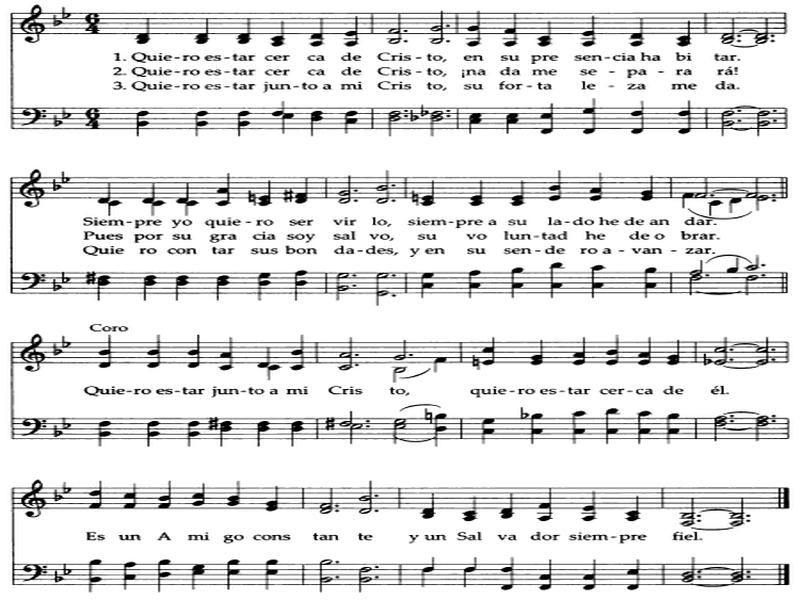B: (333, 328, 355, 371), (310, 550, 332, 593), (712, 104, 737, 138), (355, 549, 372, 598), (728, 484, 746, 530), (368, 267, 389, 306), (357, 474, 375, 519), (319, 471, 335, 519), (374, 165, 390, 209), (717, 13, 737, 48), (680, 486, 697, 527), (387, 7, 404, 45), (711, 334, 727, 374), (331, 267, 348, 303), (430, 9, 446, 46), (679, 554, 697, 585), (728, 554, 746, 582), (427, 108, 442, 139), (337, 173, 352, 204), (386, 106, 402, 135), (696, 167, 710, 200), (753, 15, 769, 43), (757, 106, 769, 137), (685, 274, 703, 294), (713, 414, 725, 443), (757, 336, 767, 370), (746, 275, 758, 301), (757, 412, 766, 443), (397, 334, 406, 364), (395, 419, 405, 446), (748, 172, 757, 199), (748, 249, 759, 271), (339, 411, 353, 428), (393, 364, 406, 382), (757, 190, 767, 213), (349, 424, 360, 443), (691, 258, 703, 275)
Bem: (51, 569, 64, 587), (61, 477, 74, 494), (59, 334, 70, 352), (57, 105, 70, 120), (51, 278, 63, 294), (50, 13, 61, 30), (51, 425, 62, 441), (61, 171, 73, 185), (63, 560, 71, 580), (50, 344, 62, 357), (701, 353, 713, 365), (59, 270, 69, 284), (60, 413, 67, 433), (51, 182, 62, 194), (419, 104, 429, 117), (52, 114, 62, 126), (60, 4, 67, 21), (52, 489, 60, 502), (411, 109, 418, 123)
CF: (17, 409, 47, 443), (17, 264, 46, 297), (18, 100, 47, 132), (20, 554, 47, 586)
CS: (21, 161, 46, 220), (20, 325, 47, 375), (20, 1, 47, 50), (22, 476, 47, 524)
N: (125, 106, 156, 145), (146, 481, 180, 514), (598, 332, 624, 374), (578, 487, 607, 524), (282, 332, 307, 374), (496, 6, 522, 46), (548, 158, 568, 210), (412, 492, 446, 522), (464, 7, 487, 50), (456, 488, 484, 523), (183, 328, 206, 370), (116, 477, 142, 514), (619, 104, 652, 133), (232, 12, 260, 46), (141, 414, 168, 449), (186, 564, 214, 597), (578, 1, 597, 49), (142, 332, 164, 371), (525, 413, 549, 448), (302, 14, 328, 46), (282, 418, 308, 450), (624, 13, 649, 46), (215, 335, 236, 374), (625, 560, 649, 594), (578, 98, 600, 135), (504, 264, 526, 301), (672, 98, 694, 134), (542, 484, 559, 530), (155, 556, 175, 595), (569, 407, 590, 444), (632, 333, 657, 364), (673, 16, 697, 48), (571, 330, 591, 368), (591, 260, 609, 302), (221, 478, 246, 508), (509, 176, 533, 207), (547, 261, 565, 302), (94, 415, 117, 447), (187, 108, 213, 136), (536, 557, 555, 595), (339, 16, 362, 47), (576, 561, 598, 593), (501, 551, 517, 594), (537, 103, 558, 135), (134, 16, 157, 45), (461, 267, 480, 302), (191, 15, 213, 45), (586, 171, 606, 204), (212, 269, 234, 299), (527, 337, 547, 370), (216, 421, 236, 454), (497, 491, 518, 522), (669, 409, 686, 447), (467, 178, 490, 206), (187, 481, 210, 509), (601, 406, 617, 446), (638, 176, 660, 205), (172, 274, 191, 307), (98, 334, 117, 367), (295, 176, 315, 206), (293, 270, 313, 300), (479, 414, 499, 444), (223, 558, 241, 591), (483, 333, 499, 369), (84, 484, 102, 516), (263, 486, 285, 512), (181, 420, 202, 447), (433, 411, 450, 444), (627, 494, 645, 525), (271, 18, 288, 50), (170, 174, 188, 204), (254, 274, 272, 304), (667, 336, 685, 366), (641, 266, 656, 301), (339, 110, 357, 139), (121, 564, 141, 590), (253, 416, 270, 446), (465, 112, 486, 136), (535, 23, 552, 52), (138, 176, 155, 204), (637, 406, 651, 440), (426, 177, 441, 207), (419, 269, 434, 299), (309, 109, 323, 141), (264, 555, 278, 587), (95, 178, 112, 204), (262, 174, 275, 208), (461, 565, 479, 588), (234, 112, 250, 137), (89, 559, 100, 594), (502, 553, 523, 571), (217, 168, 232, 192), (260, 364, 278, 384), (419, 569, 436, 590), (144, 274, 155, 305), (257, 344, 270, 370), (282, 110, 294, 135), (434, 352, 447, 374), (504, 112, 516, 135), (463, 555, 478, 573), (504, 575, 518, 594), (271, 99, 287, 115), (187, 196, 197, 221), (107, 195, 120, 214), (99, 274, 108, 299), (731, 194, 741, 216), (707, 200, 720, 216), (151, 196, 162, 214), (422, 556, 436, 569), (216, 194, 231, 204), (731, 255, 741, 270), (681, 192, 690, 207)
P: (745, 509, 757, 530), (364, 413, 376, 431), (331, 558, 345, 571), (772, 408, 782, 425), (763, 258, 770, 279), (694, 512, 706, 524), (332, 573, 344, 584), (333, 501, 343, 514), (696, 564, 703, 582), (768, 192, 779, 203), (389, 270, 399, 282), (408, 350, 417, 363), (771, 31, 780, 44), (746, 567, 752, 585), (388, 292, 401, 300), (736, 32, 745, 43), (349, 270, 361, 278), (729, 356, 739, 365), (737, 114, 744, 126), (352, 281, 360, 291), (355, 362, 363, 371), (444, 22, 452, 31), (444, 34, 450, 46), (775, 106, 783, 114), (373, 564, 382, 571), (768, 347, 777, 354), (768, 356, 777, 363), (737, 105, 744, 114), (403, 36, 410, 45), (355, 354, 362, 361), (373, 508, 381, 514), (729, 347, 737, 353), (402, 26, 407, 35), (372, 492, 379, 498), (375, 574, 381, 580), (771, 117, 777, 123)
SOS: (417, 399, 436, 424), (201, 412, 220, 434), (280, 184, 296, 205), (468, 350, 481, 372), (244, 184, 259, 203), (407, 188, 421, 208), (324, 412, 337, 433)
